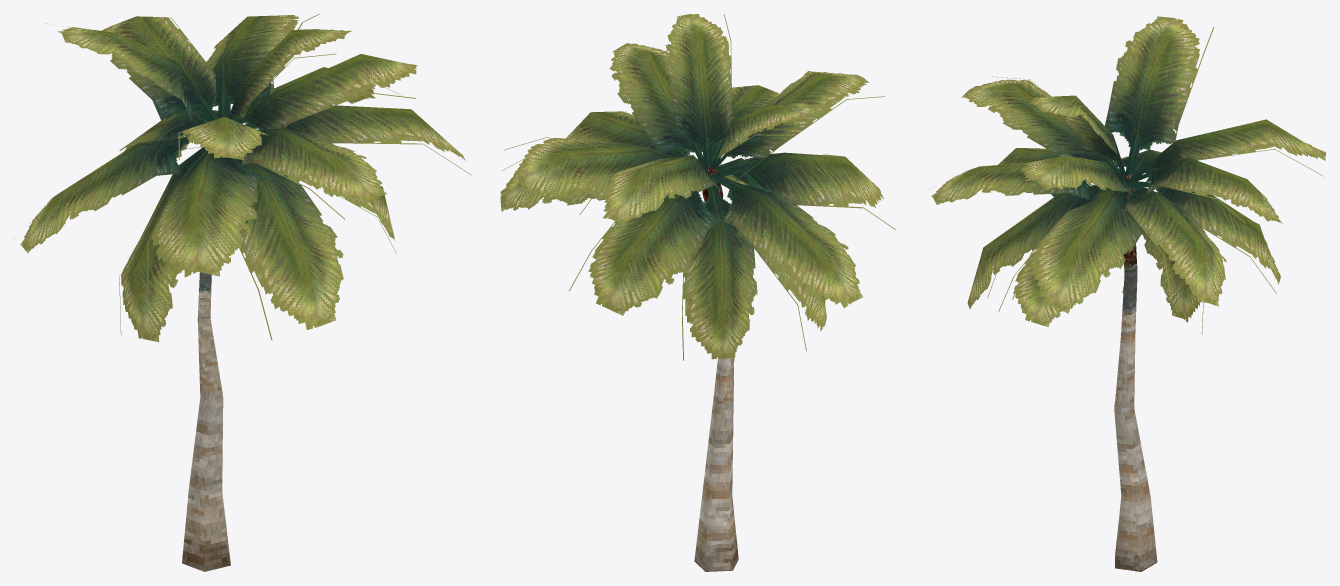
File: stage-sanf-p2-60.glb
3 renders of one model, left to right at view 1: azimuth 30°, elevation 25°; view 2: azimuth 150°, elevation 25°; view 3: azimuth 270°, elevation 25°, orthographic. The views are drawn at different scales.
Bounding box in the file's own units: 13.68 × 17.98 × 13.2.
Materials: 1 (1 with a texture image).
